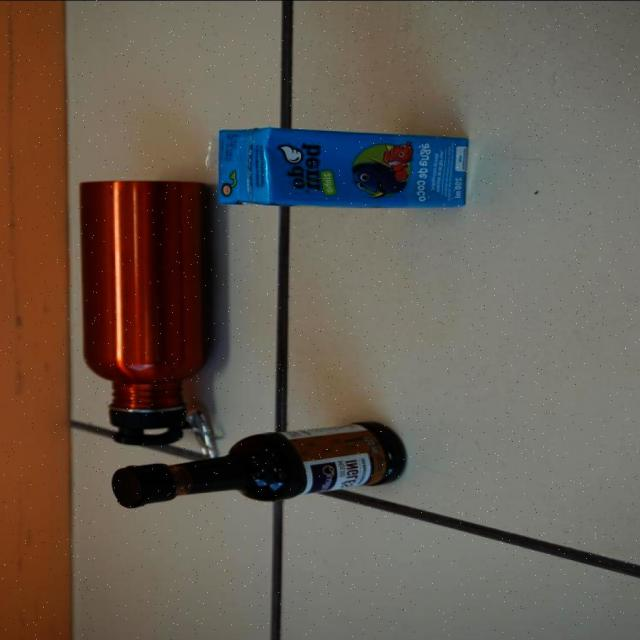CoconutWater: (216, 126, 472, 209)
EnglishSauce: (112, 421, 409, 508)
